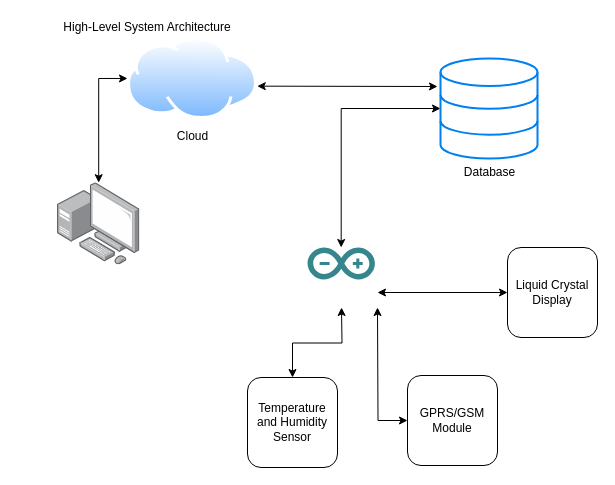
Some shapes in this 615 by 485 pixel diagram are drawn without their labels. The centre of each missing label's shape, as x and y in pixels:
"Arduino Uno" goes at [340,263].
"PC" goes at [98,223].
